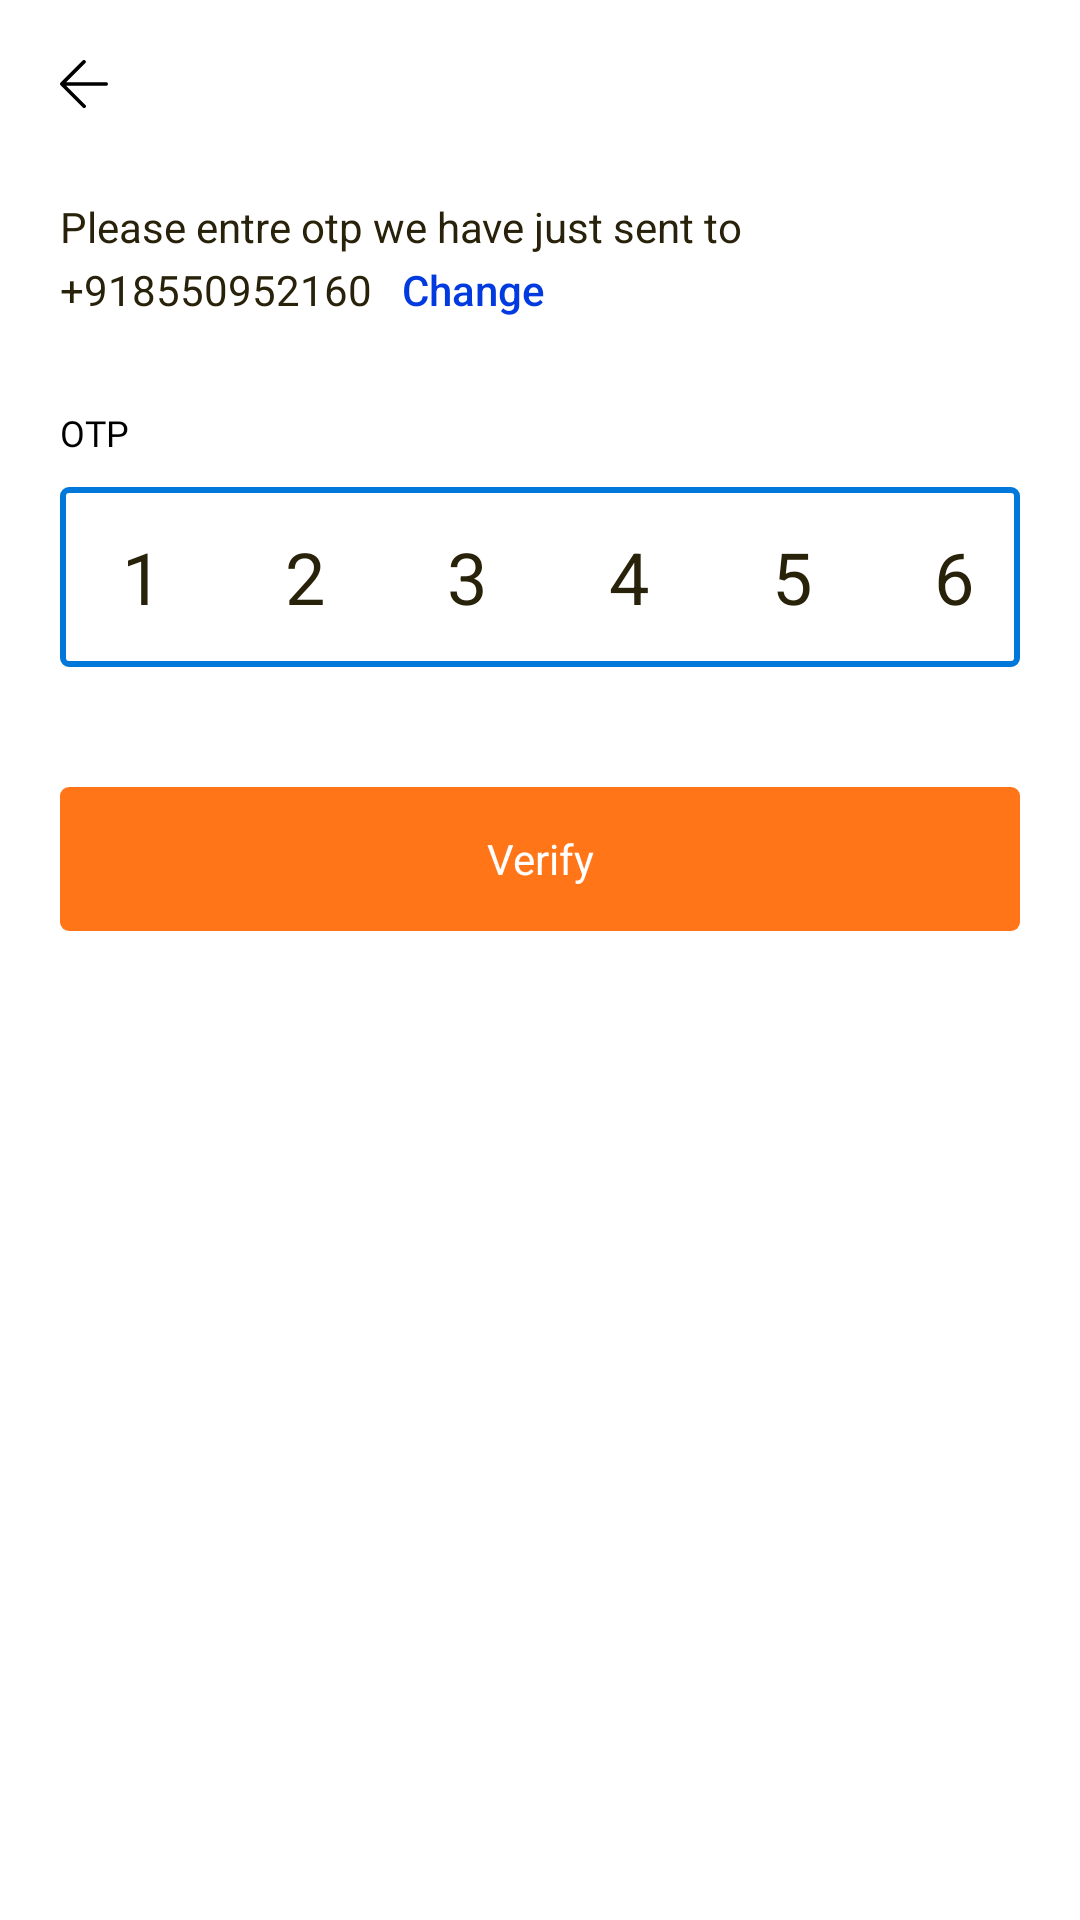

Locate icon controls on the screen. Image size 1080*1920, boxes as (x1, y1, x2, y2).
back arrow: (60, 60, 108, 108)
